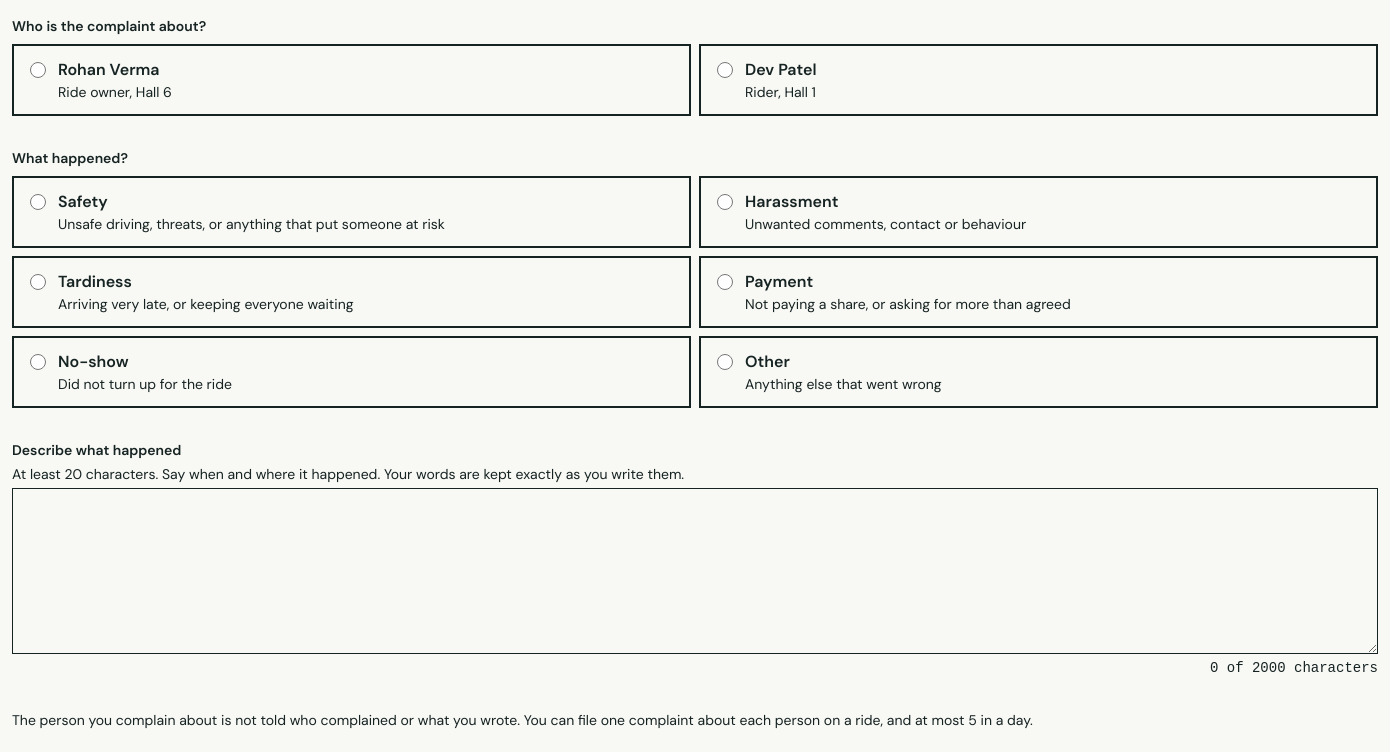
ComplaintForm (FR-RD-13.1 to 13.6, CS455-53) › sends the seat, category and words, and shows the reference (FR-RD-13.2)
This screenshot has width=1390, height=752.
Click the radio button labelled "Rohan Verma Ride owner, Hall 6": (38, 70) top-left (30, 62), bottom-right (46, 78)
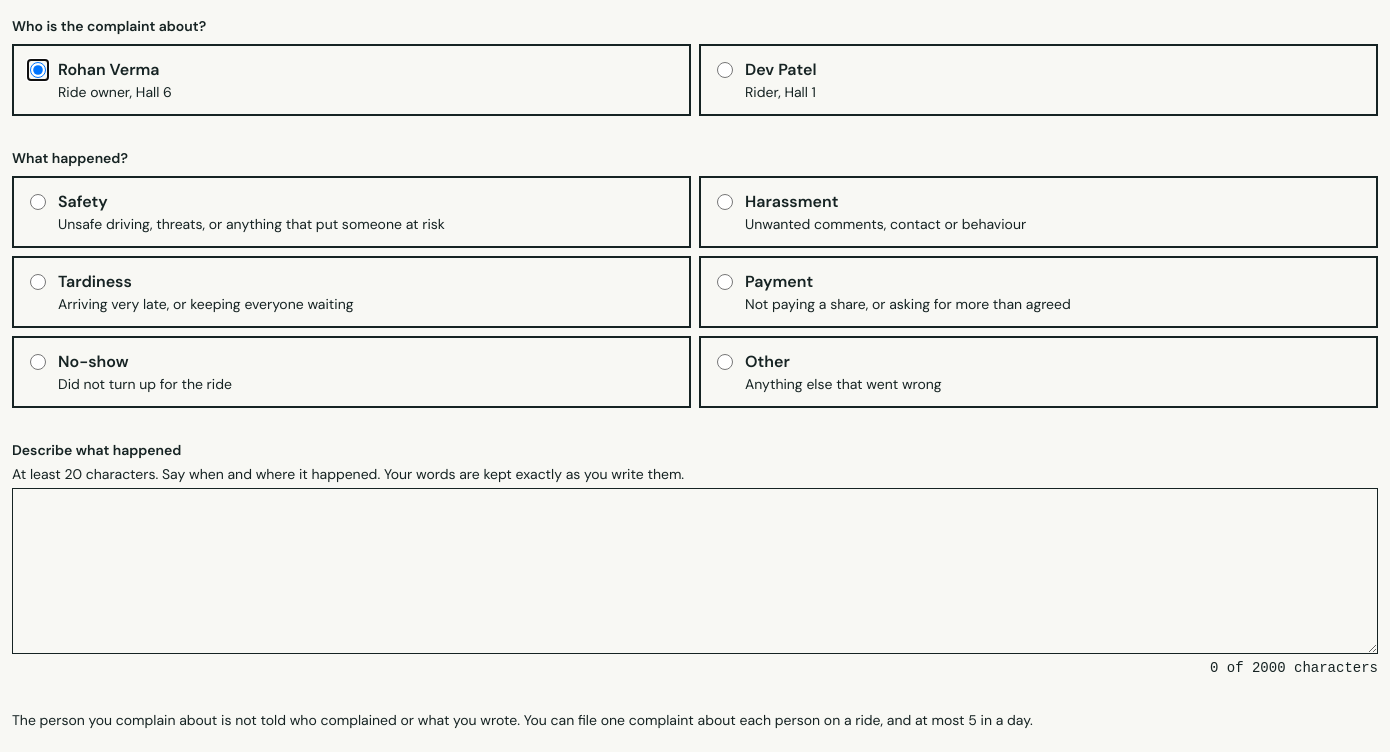
Click the radio button labelled "Tardiness Arriving very late, or keeping everyone waiting": (38, 282) top-left (30, 274), bottom-right (46, 290)
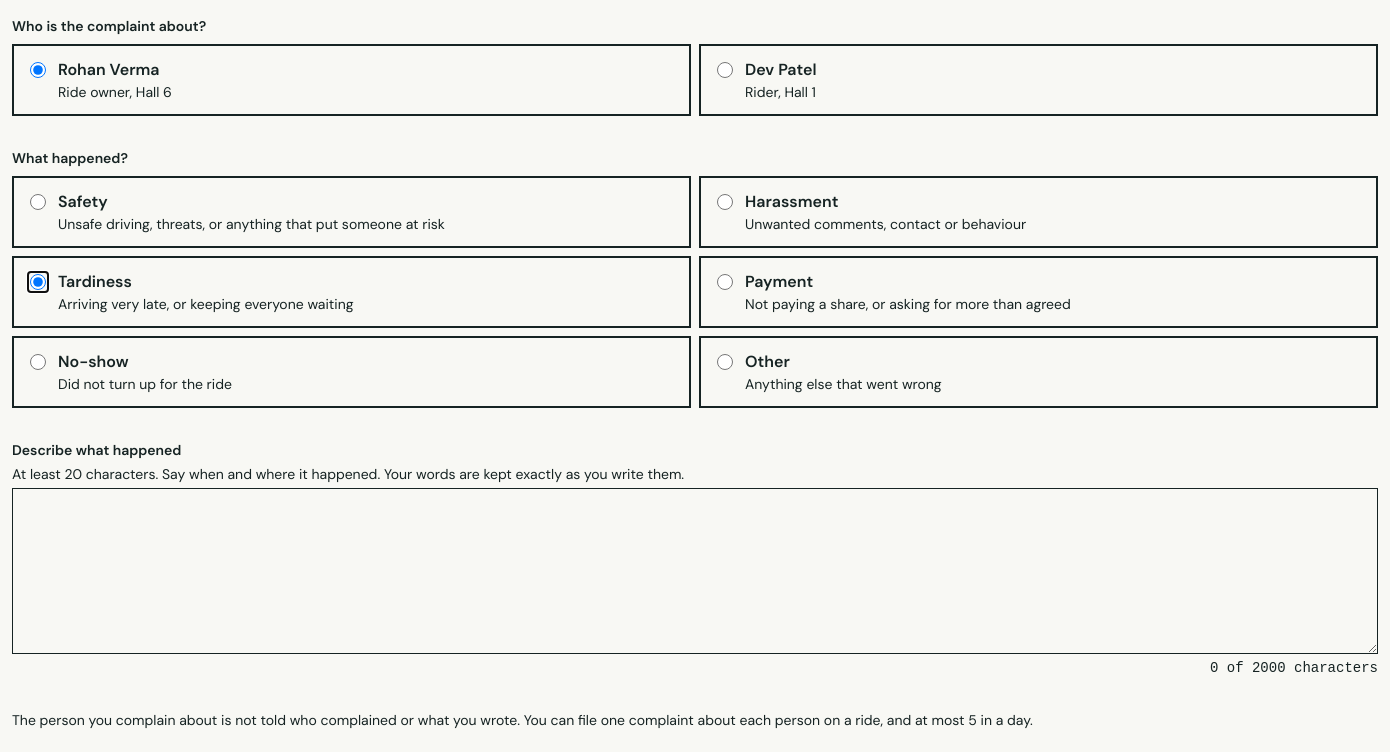
In the text box labelled "Describe what happened": (695, 571) top-left (12, 488), bottom-right (1378, 654), type "Arrived 25 minutes late to the pickup point."
(page scrolled)
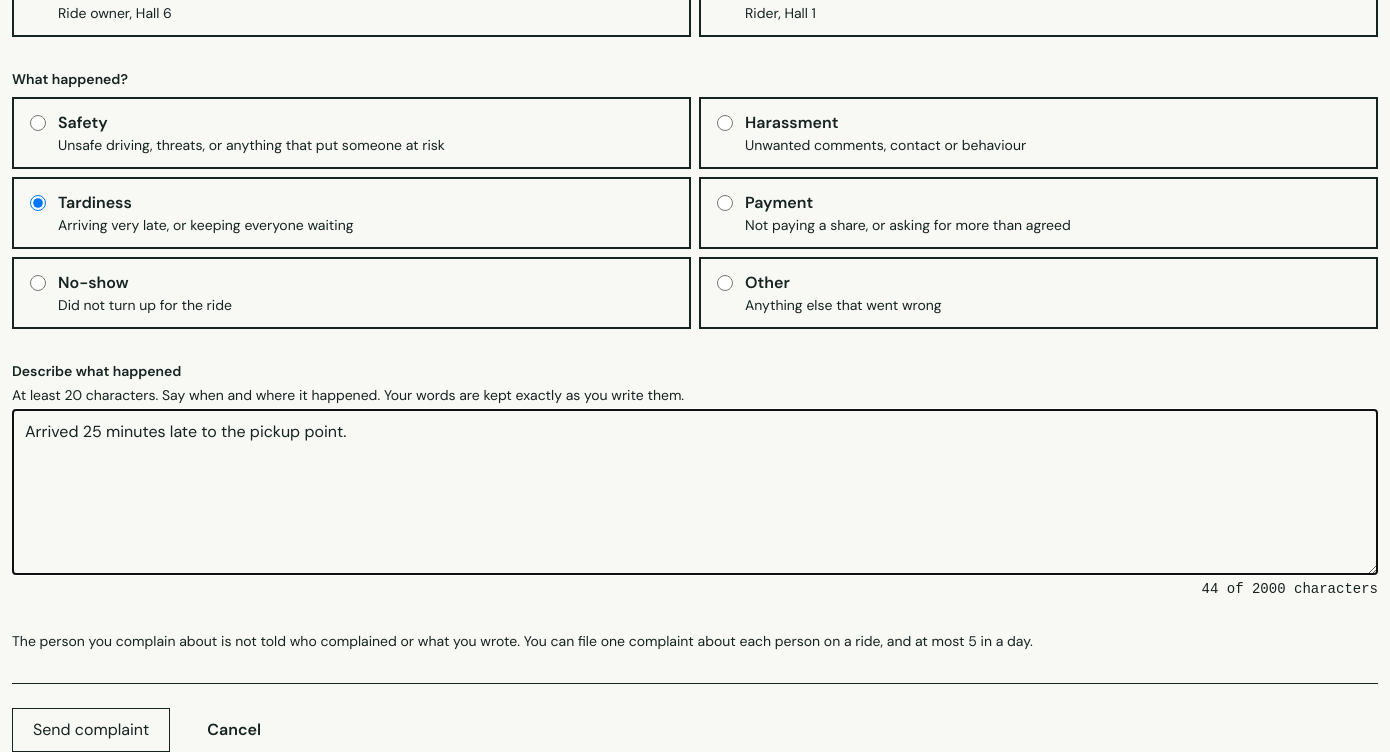
Click the button "Send complaint": (91, 730) top-left (12, 708), bottom-right (170, 751)
(page scrolled)
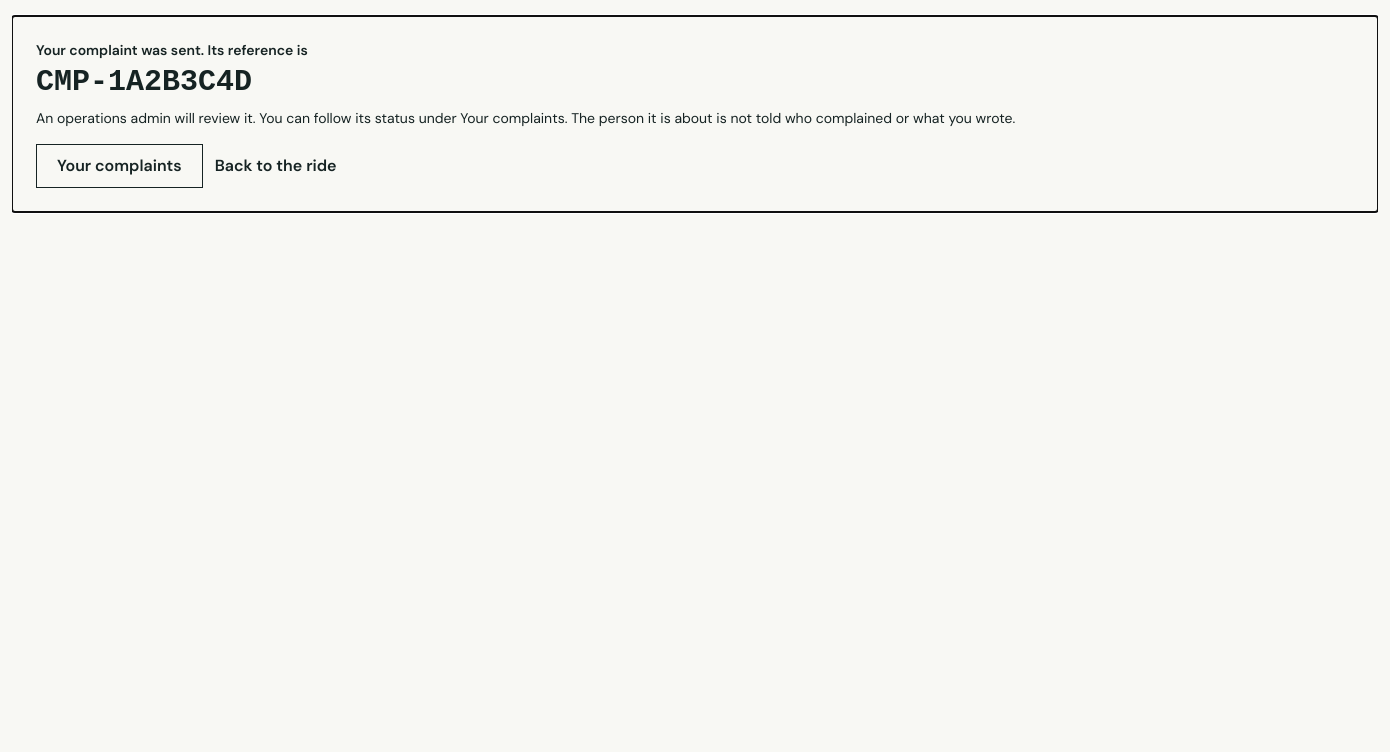
Expected: the element named "Complaint sent" shows "CMP-1A2B3C4D", top-left (36, 65), bottom-right (252, 99)
